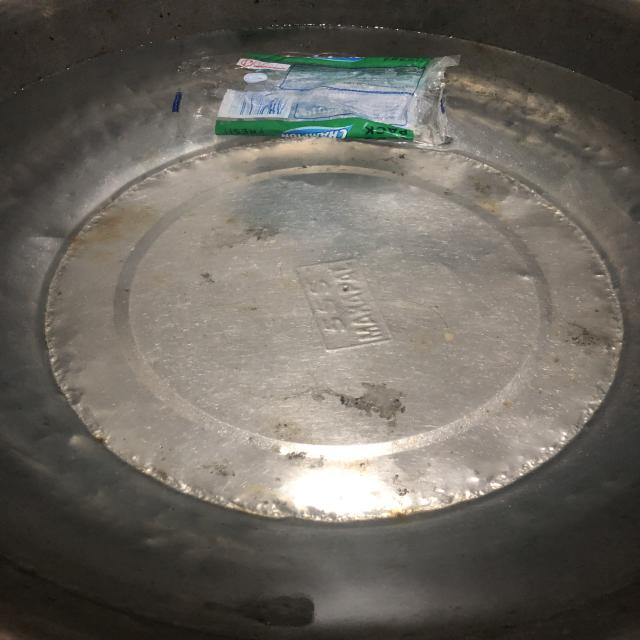Plastic Wrapper: (165, 46, 486, 182)
